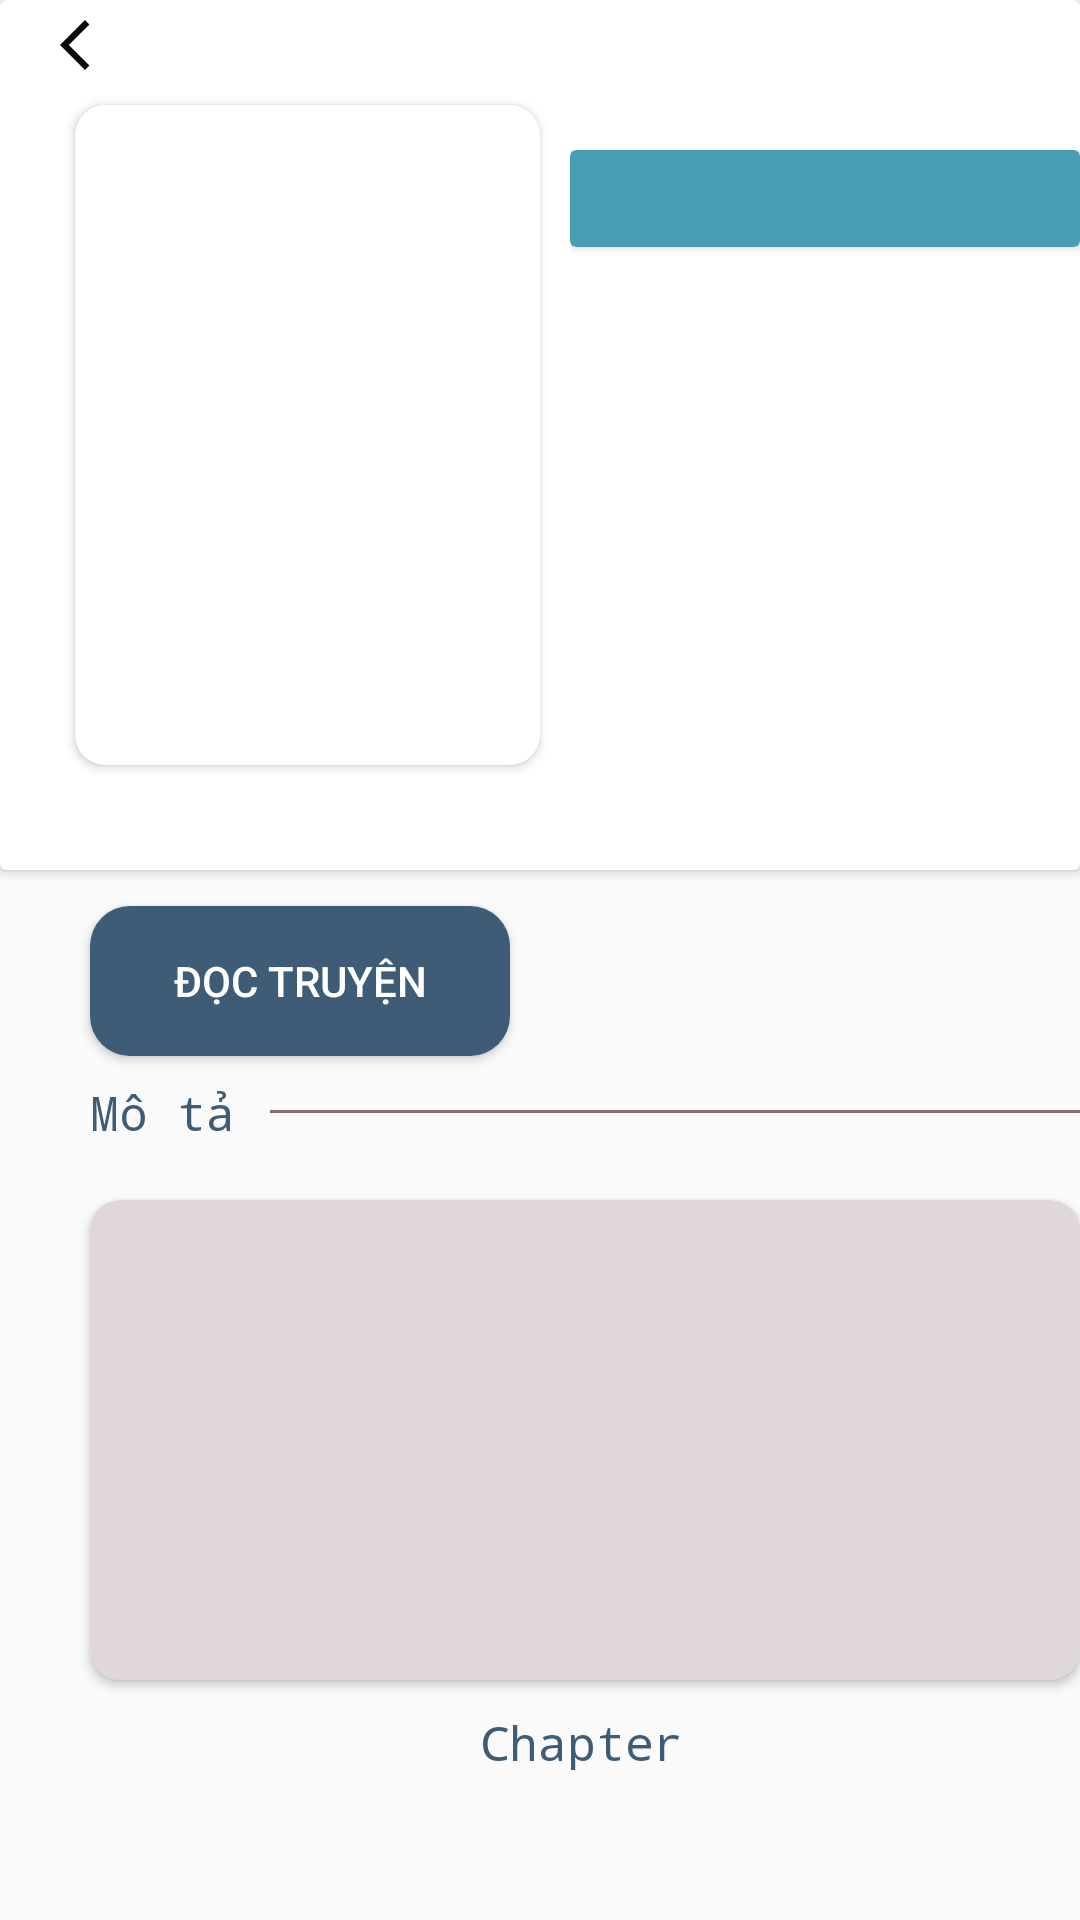

Icons on this 1080 x 1920 Android screen, each with the point to tap as (x=x, y=y):
back: (x=75, y=45)
